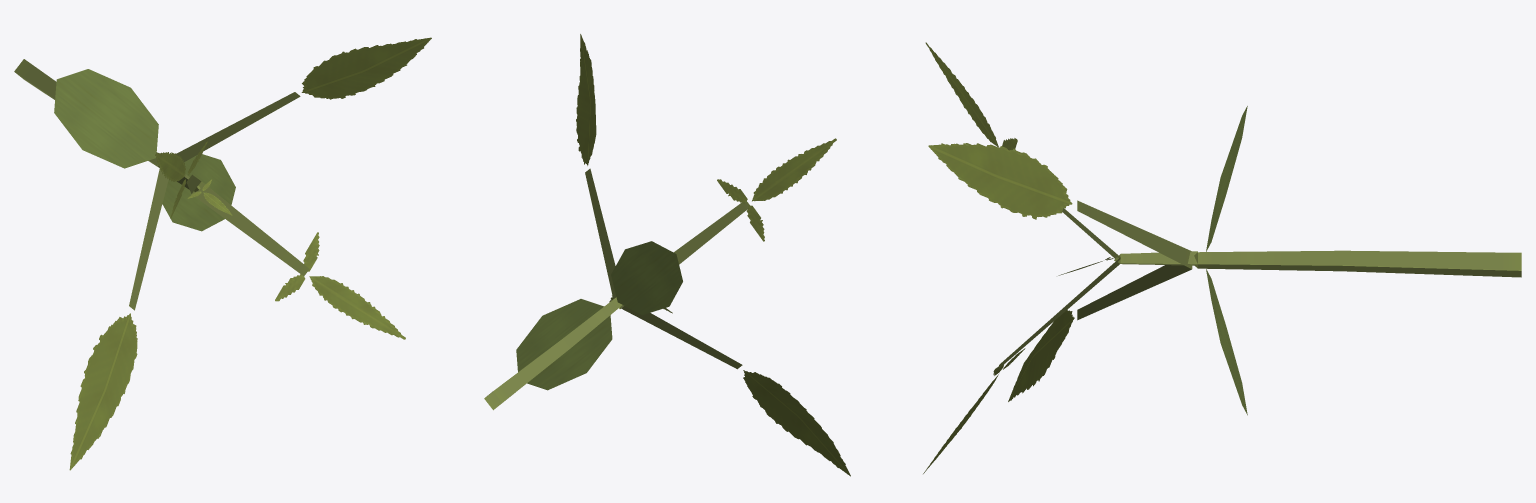
Rendered from p_seedling_c1_cards.obj.
3 views of the same model, side by side, from view 1: azimuth 30°, elevation 25°; view 2: azimuth 150°, elevation 25°; view 3: azimuth 270°, elevation 25° (orthographic). The views are drawn at different scales.
Size of the model in its own units: 0.447 by 0.486 by 0.546.
Materials: 1 (1 with a texture image).
